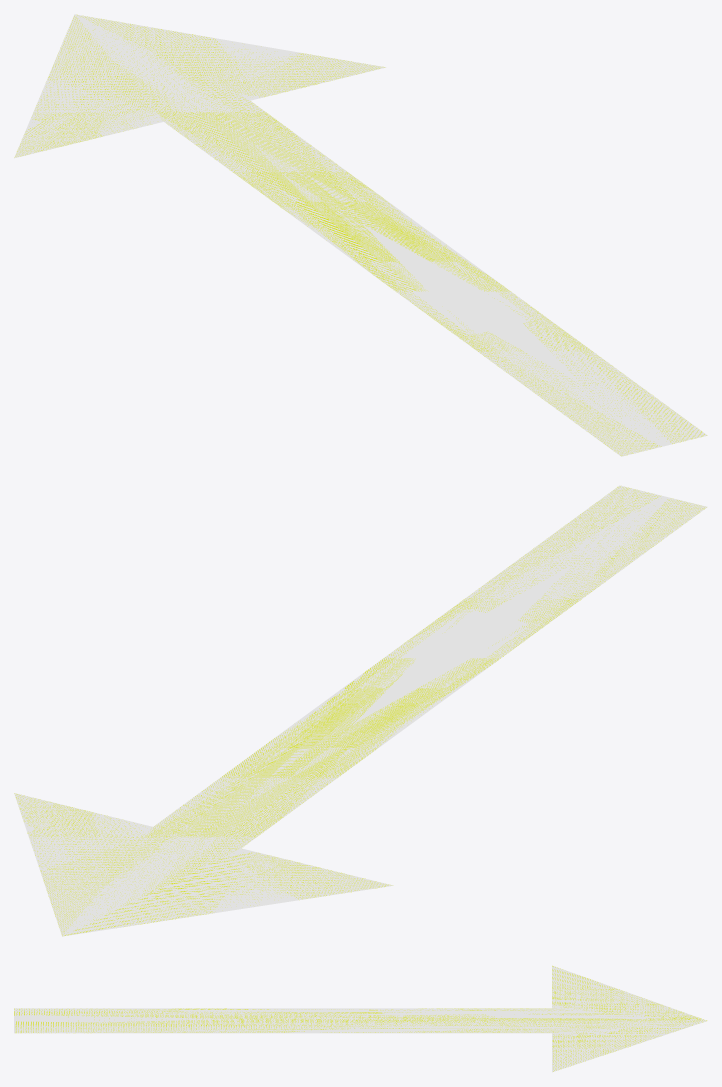
File: arrow122.dae
3 renders of one model, top to bottom at view 1: azimuth 30°, elevation 25°; view 2: azimuth 150°, elevation 25°; view 3: azimuth 270°, elevation 25°, orthographic. The views are drawn at different scales.
Visible parts, largest first — view 1: SketchUp; view 2: SketchUp; view 3: SketchUp.
Boxes of the visible parts, x1=… form: SketchUp: x1=14, y1=14, x2=707, y2=456; SketchUp: x1=14, y1=485, x2=707, y2=936; SketchUp: x1=14, y1=965, x2=707, y2=1072.
Bounding box in the file's own units: 168 × 462 × 0.
